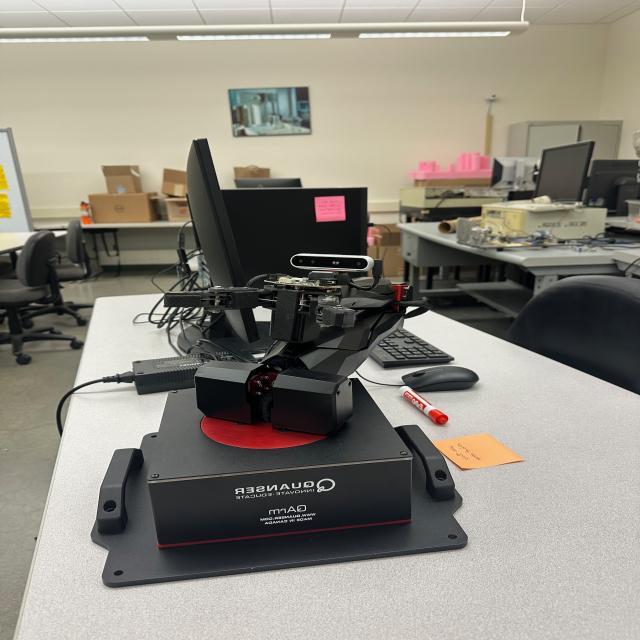monitor: (522, 135, 596, 207)
robotic-arm: (150, 266, 434, 432)
